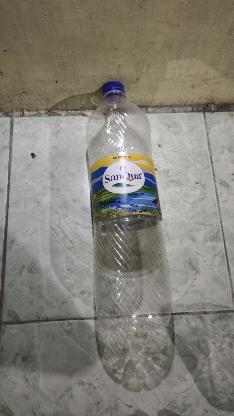Plastic Bottle: (86, 81, 174, 391)
